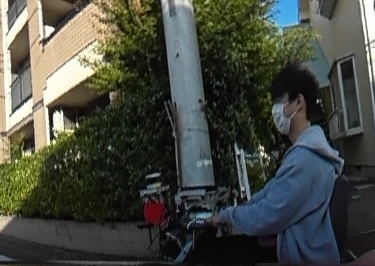person: (200, 65, 338, 264)
